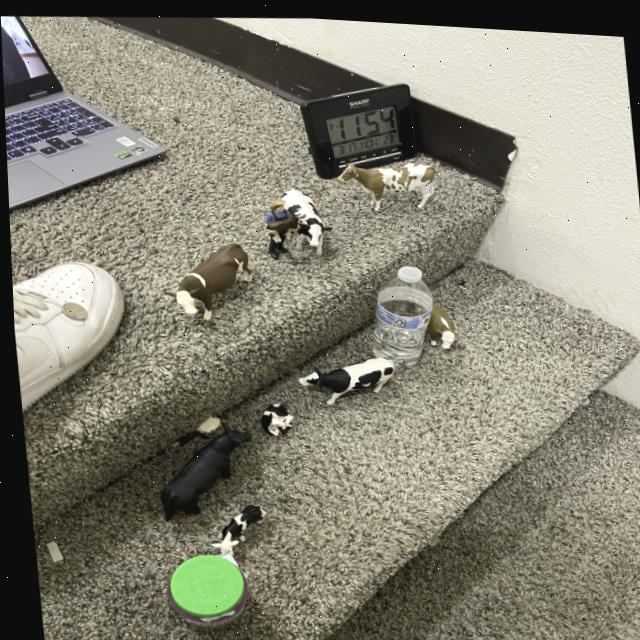cow: (144, 411, 255, 532), (162, 231, 261, 328), (294, 343, 397, 409), (336, 159, 435, 207), (277, 179, 334, 259), (204, 495, 264, 557), (408, 295, 461, 350), (250, 394, 296, 440), (263, 209, 300, 237)
person: (262, 195, 287, 220)
